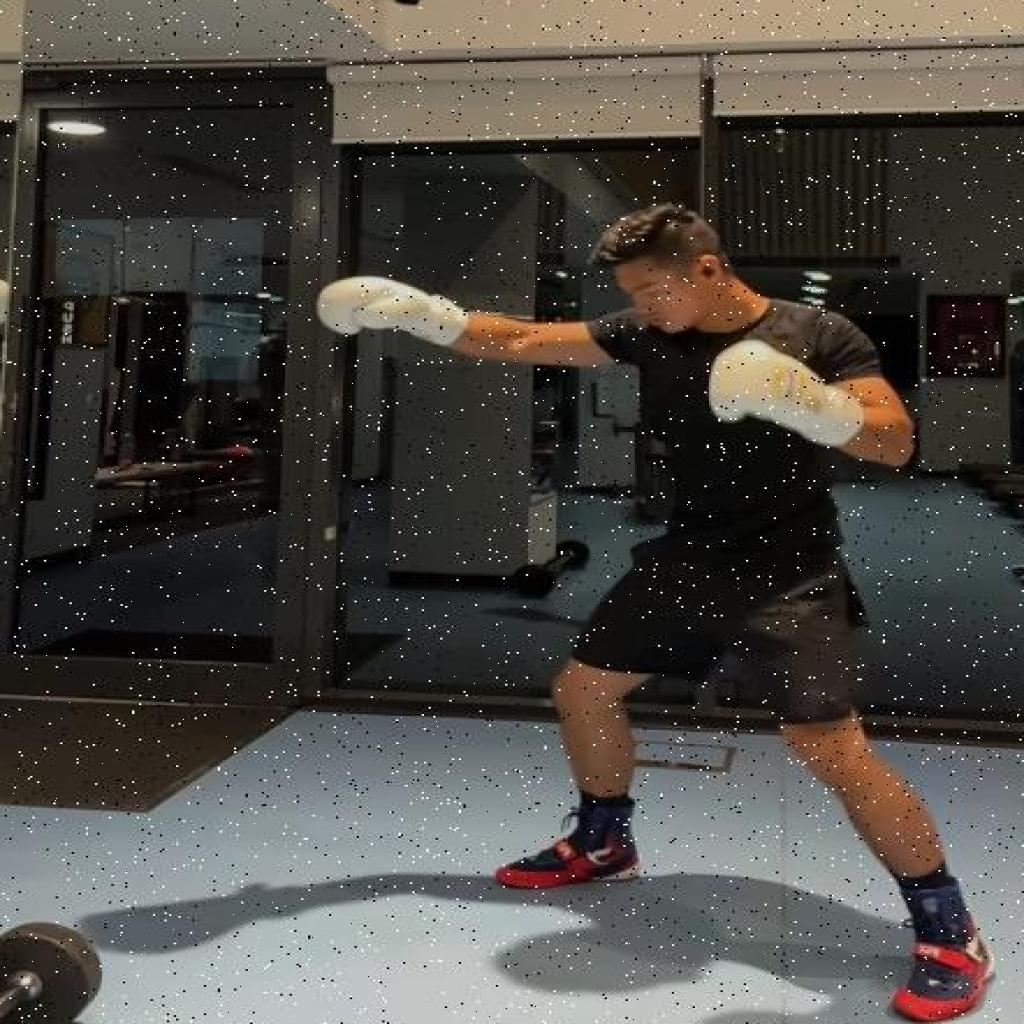jab: (308, 205, 1005, 1024)
